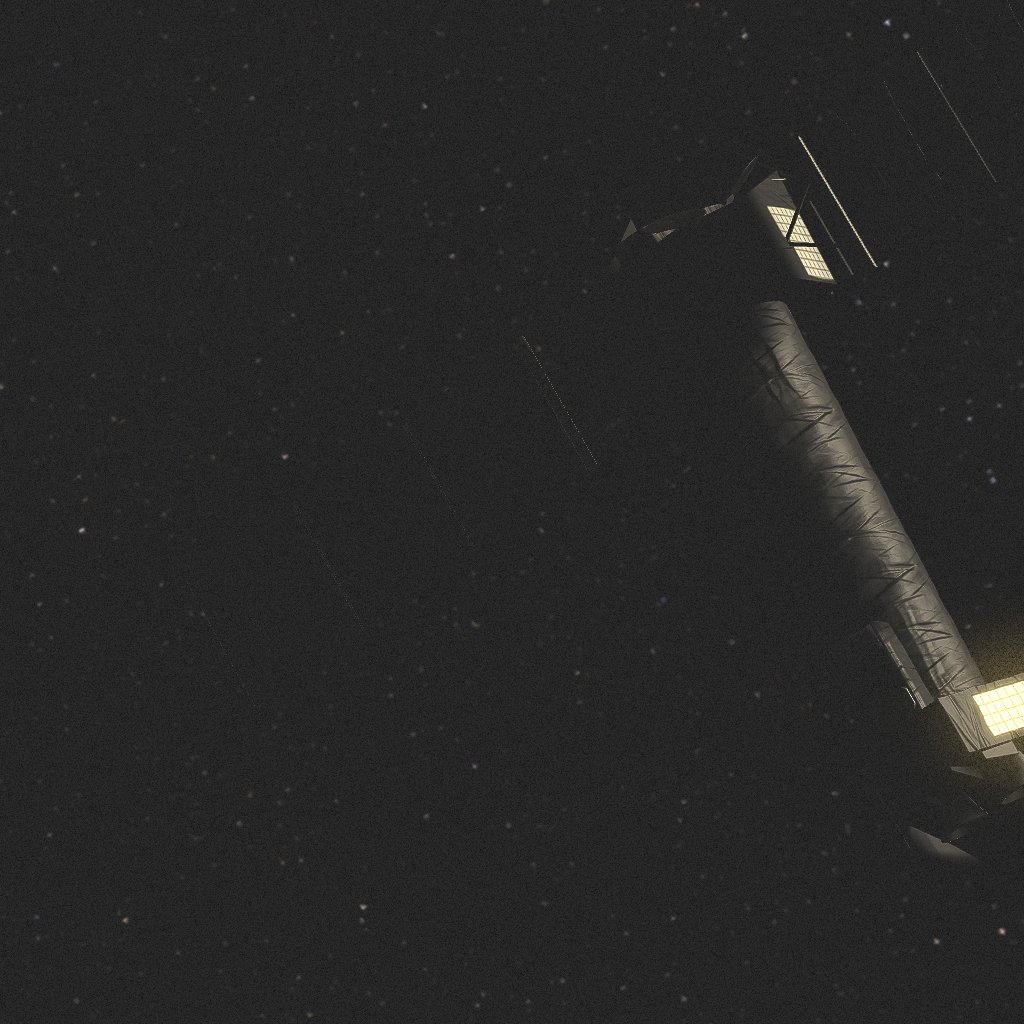xmm_newton: (186, 0, 1024, 878)
